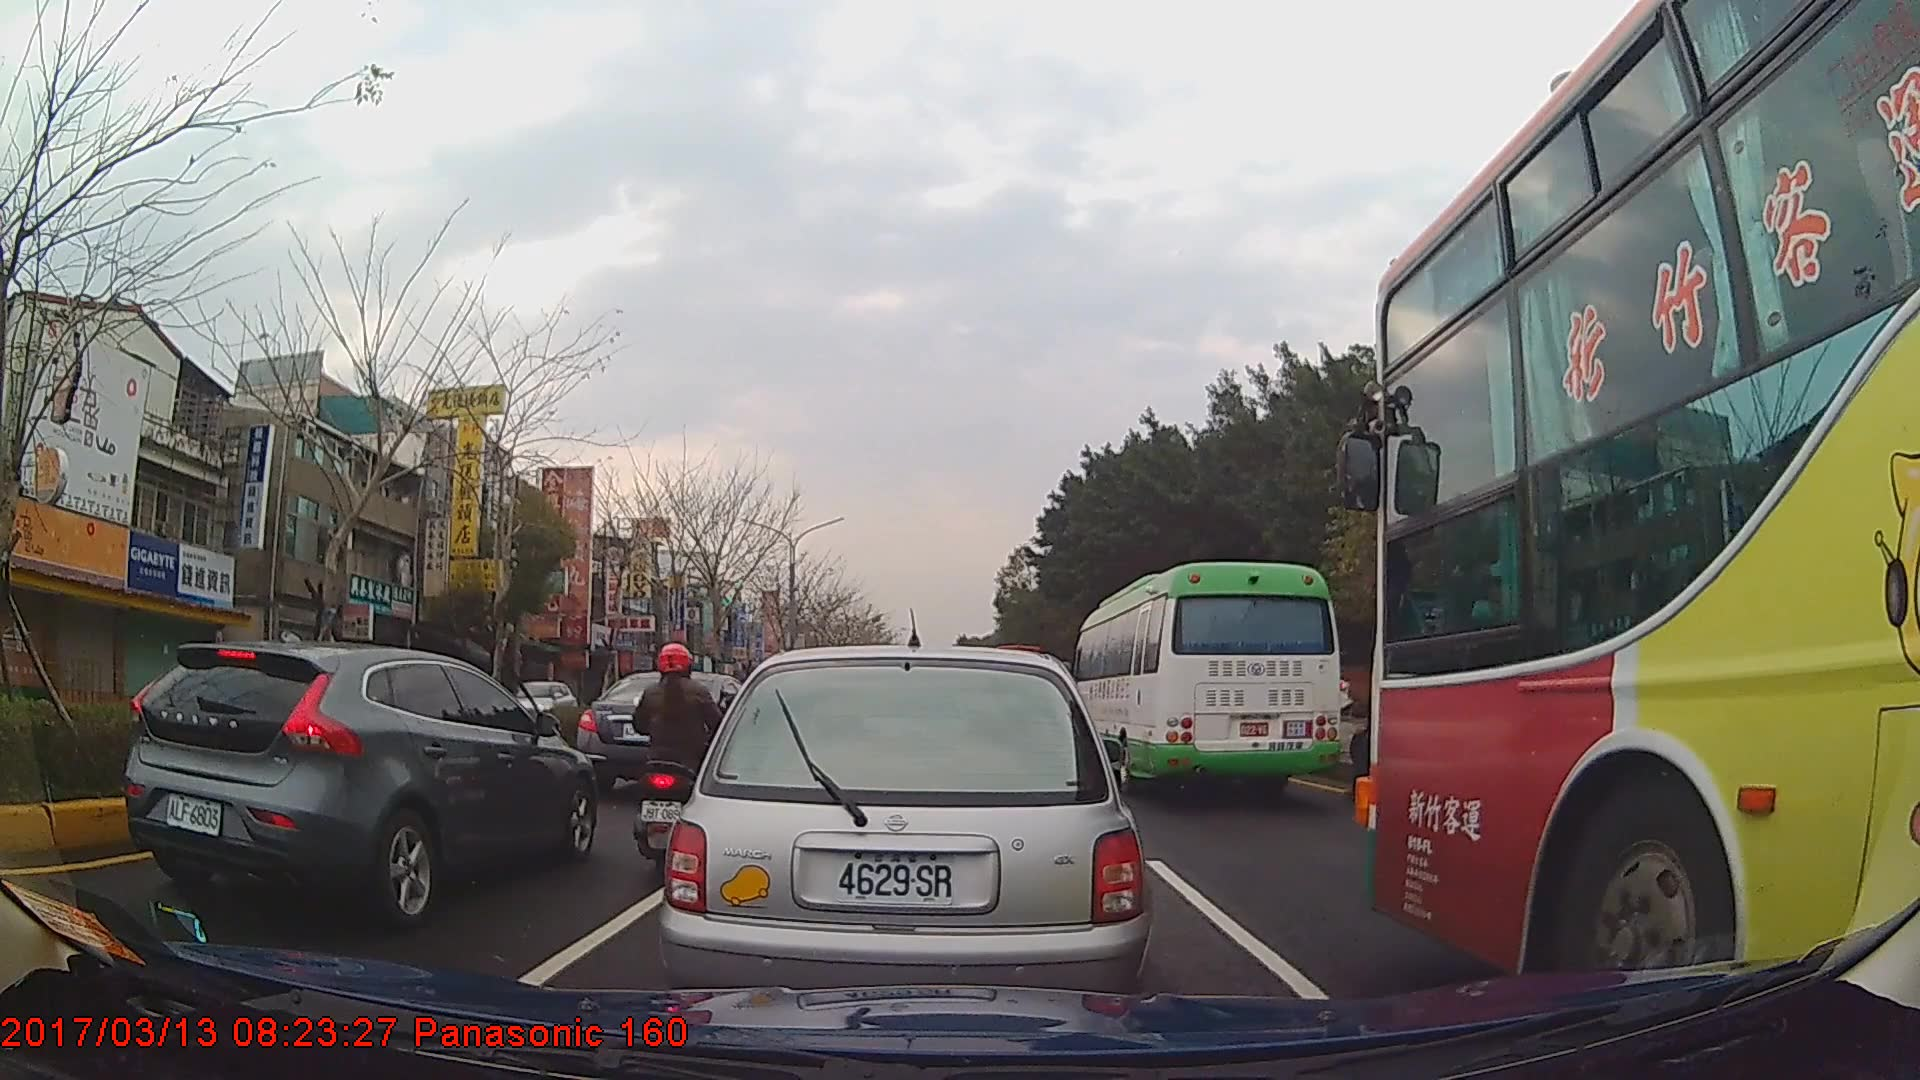rider: (629, 639, 738, 865)
vehicle: (1370, 0, 1920, 1015), (661, 637, 1152, 1025), (122, 638, 597, 931), (1068, 557, 1340, 799), (578, 668, 765, 792), (502, 679, 574, 729)
